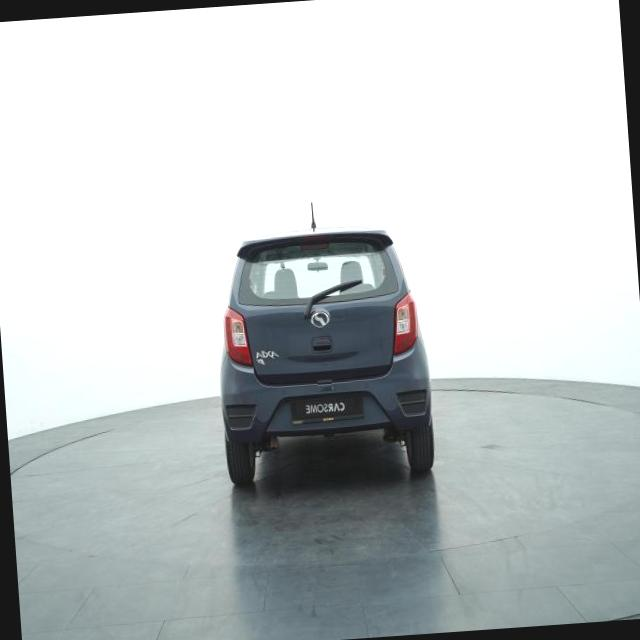PeroduaAxia: (206, 194, 439, 489)
